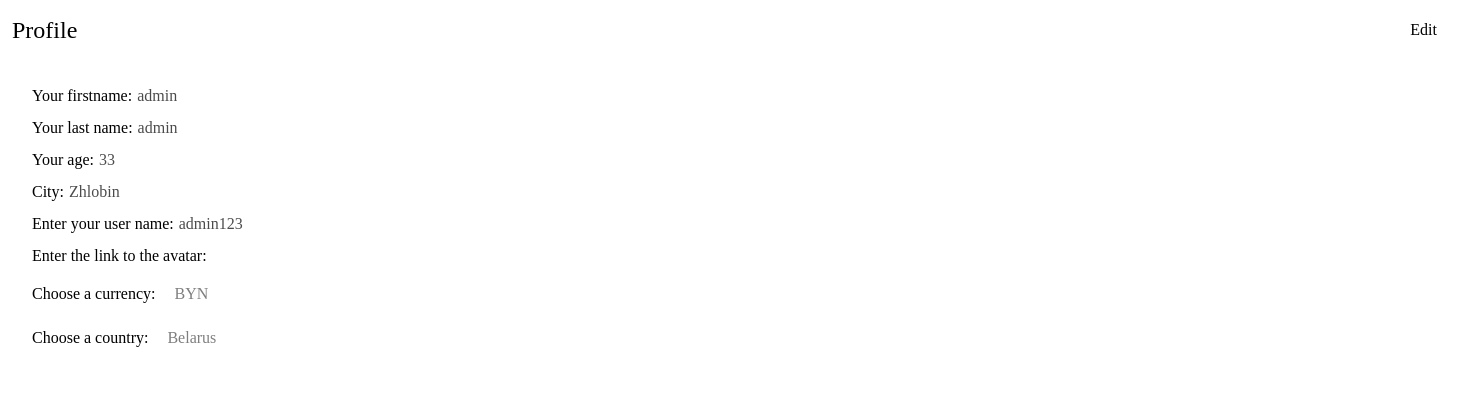
features/EditableProfileCard › Validation of inputs
Click the button with test id "EditableProfileCardHeader.EditButton" at [1424, 30], box [1395,12,1452,48]
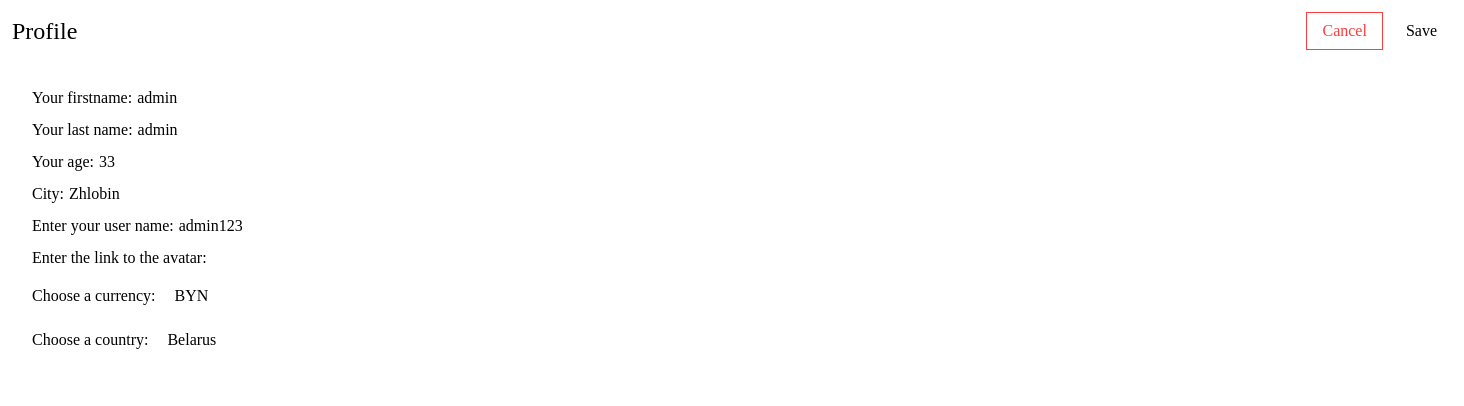
Clear the field with test id "ProfileCard.Firstname" at [785, 98], box [137,86,1432,110]
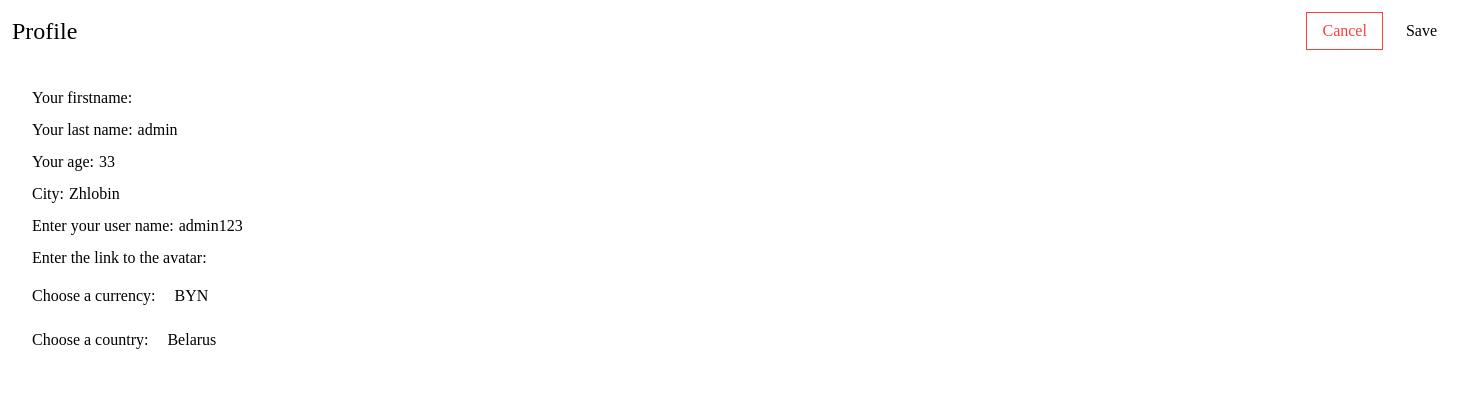
Click the button with test id "EditableProfileCardHeader.SaveButton" at [1421, 31], box [1391,13,1452,49]
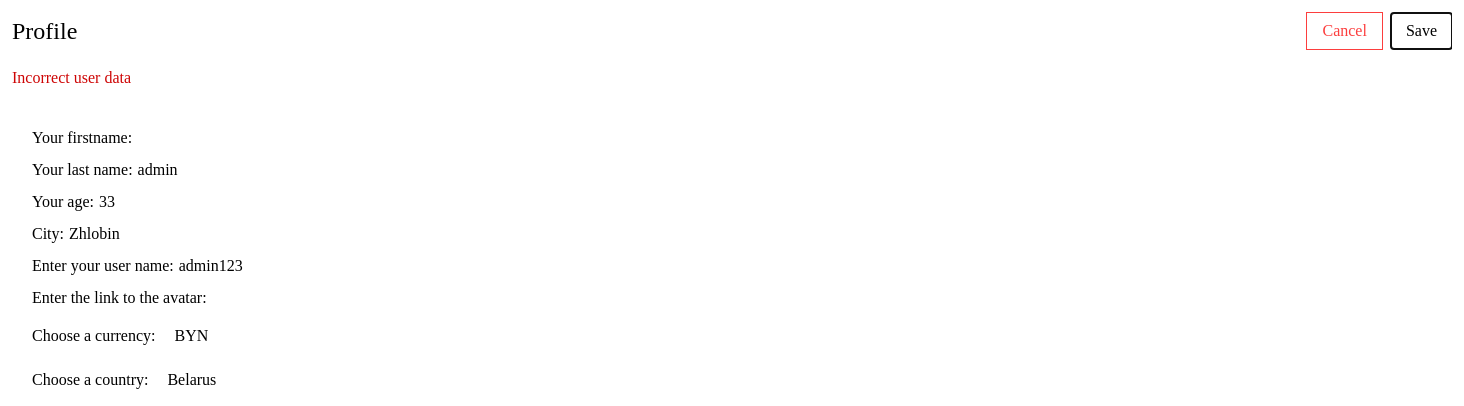
Check: the text "Incorrect user data" is shown, box [12,66,131,90]
